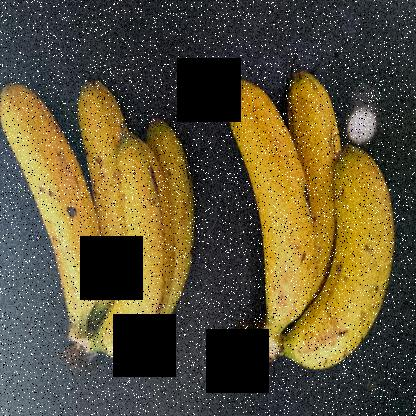ripe: (1, 72, 103, 332), (223, 74, 302, 366), (300, 139, 399, 353), (97, 135, 163, 380)
